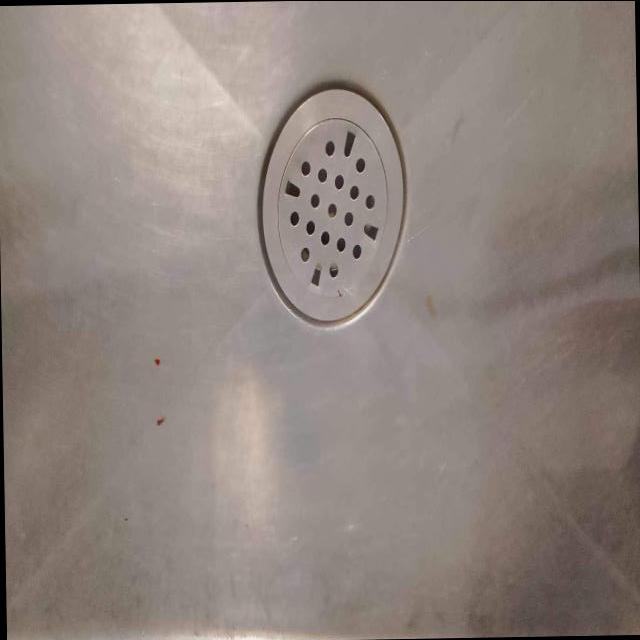General: (254, 85, 408, 332)
